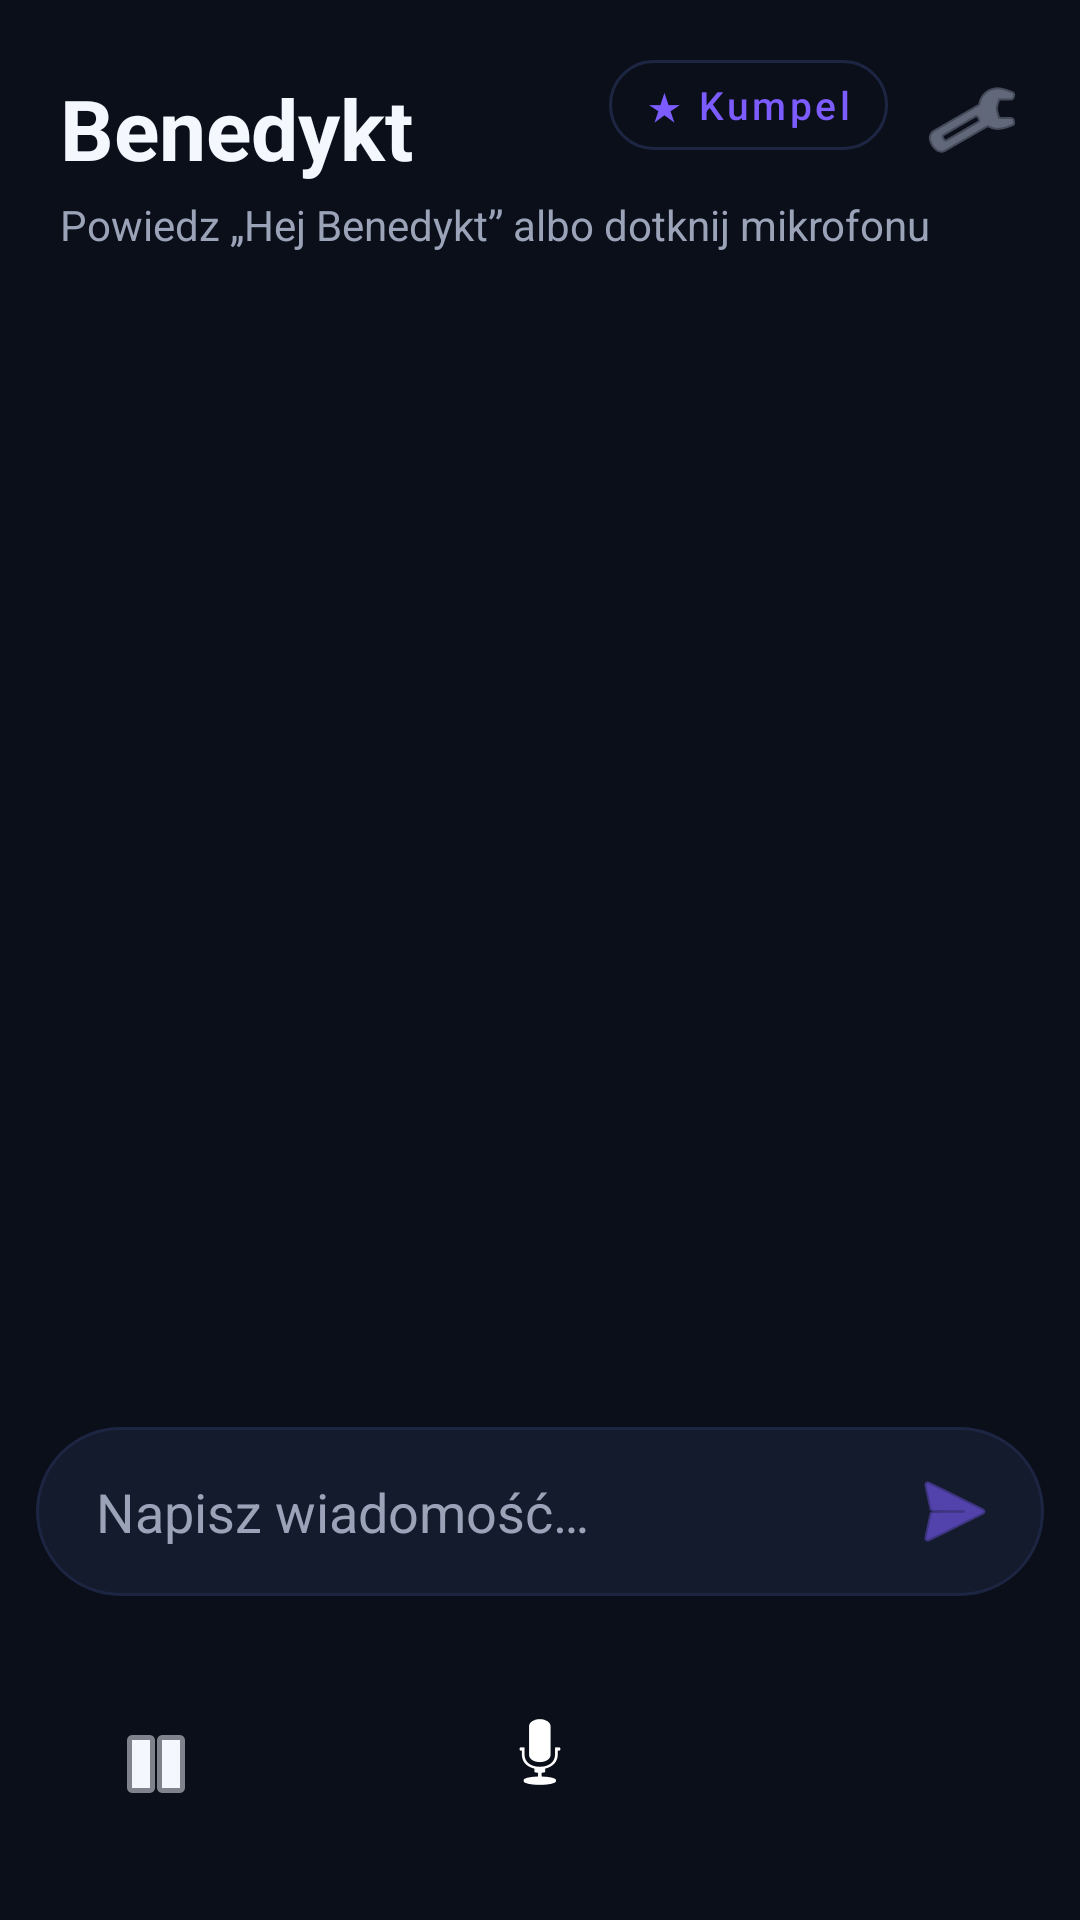

Locate icon controls on the screen. Image size 1080 x 1920, boxes as Rect(x1, y1, x2, y2).
Mikrofon: Rect(519, 1719, 561, 1785)
Ustawienia: Rect(929, 87, 1015, 153)
Wyślij: Rect(924, 1481, 986, 1542)
